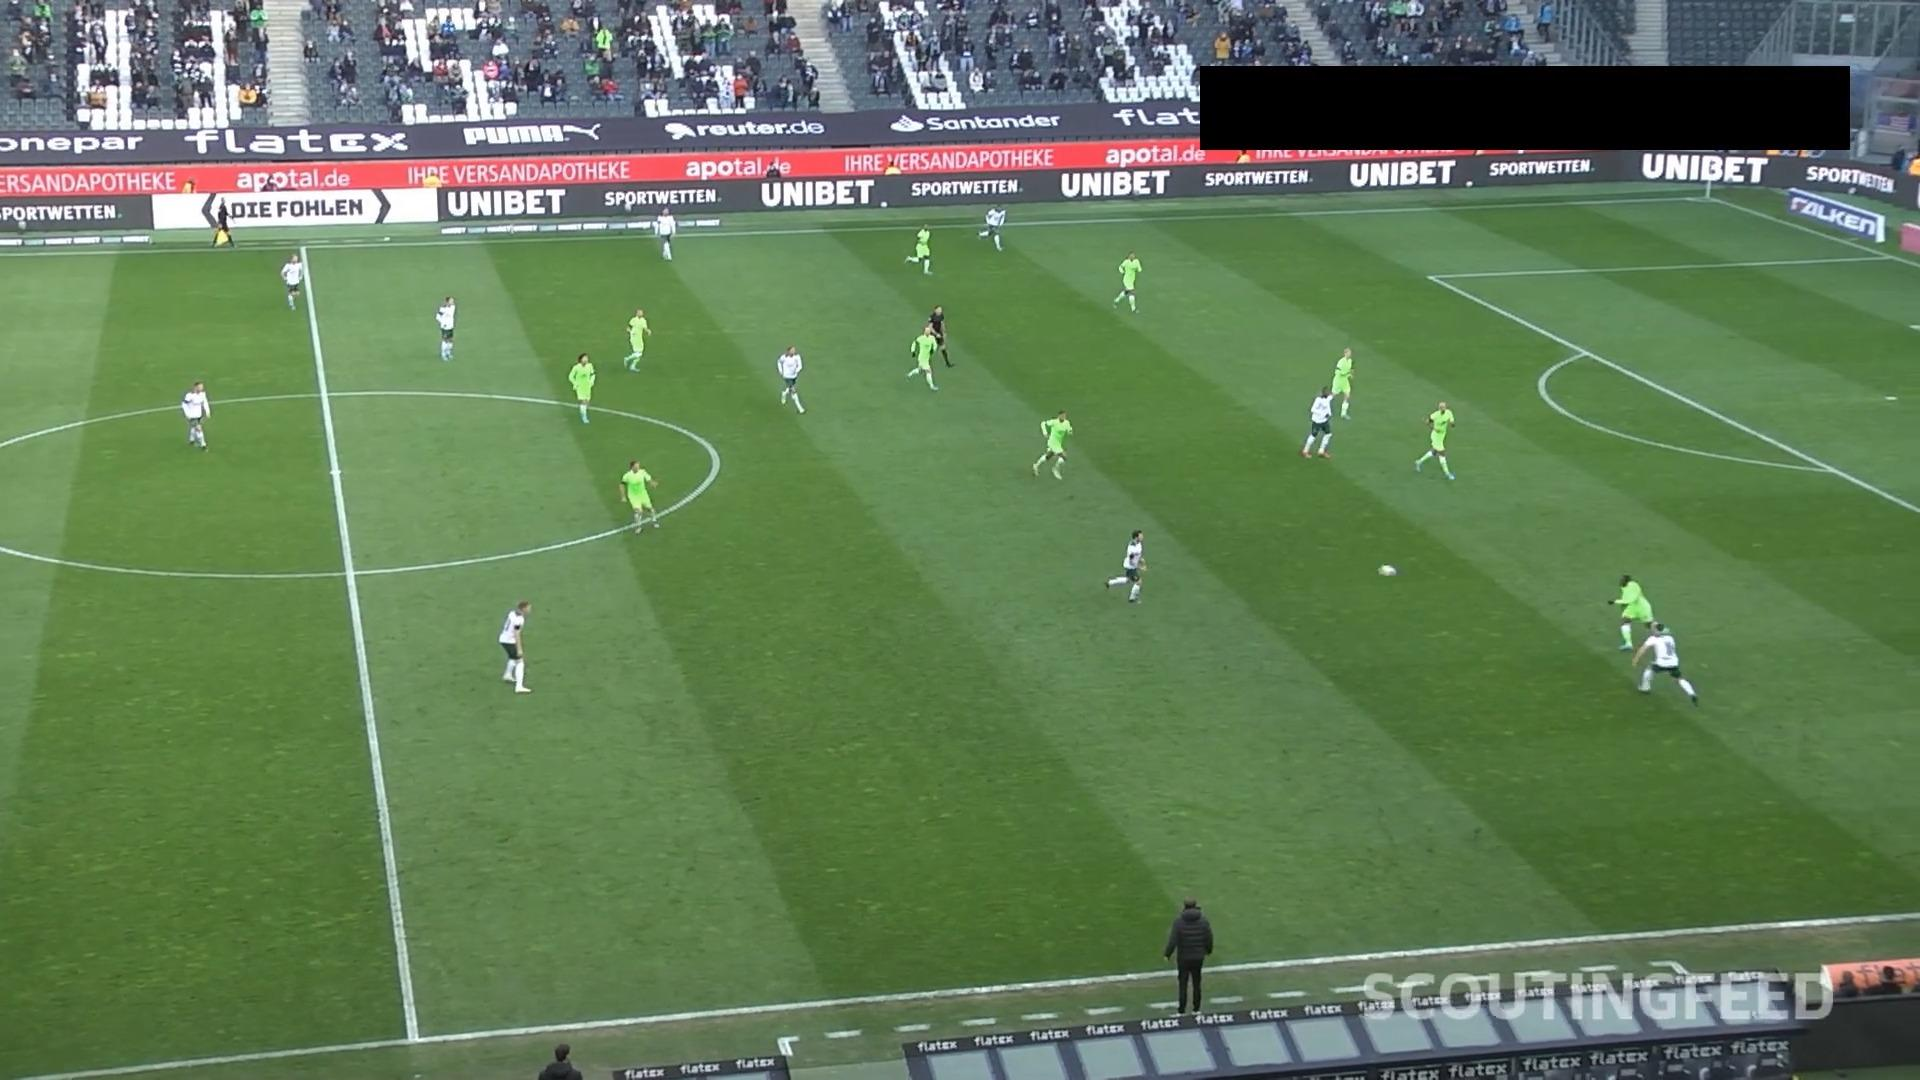ball: (1377, 564, 1396, 576)
coach: (538, 1041, 583, 1078)
player: (1630, 619, 1698, 706), (1607, 573, 1653, 651), (1414, 400, 1455, 481), (1104, 529, 1148, 603), (498, 599, 532, 693), (618, 459, 660, 534), (1030, 409, 1072, 479), (1300, 386, 1334, 458), (905, 324, 940, 391), (180, 380, 211, 450), (567, 351, 595, 424), (776, 344, 804, 413), (1112, 251, 1142, 313), (623, 308, 650, 371), (1331, 345, 1354, 418), (434, 295, 456, 361), (904, 224, 932, 275), (977, 203, 1006, 251), (280, 253, 303, 311), (654, 206, 675, 260)
referee: (1162, 895, 1213, 1014), (924, 304, 953, 368), (212, 197, 233, 246)
